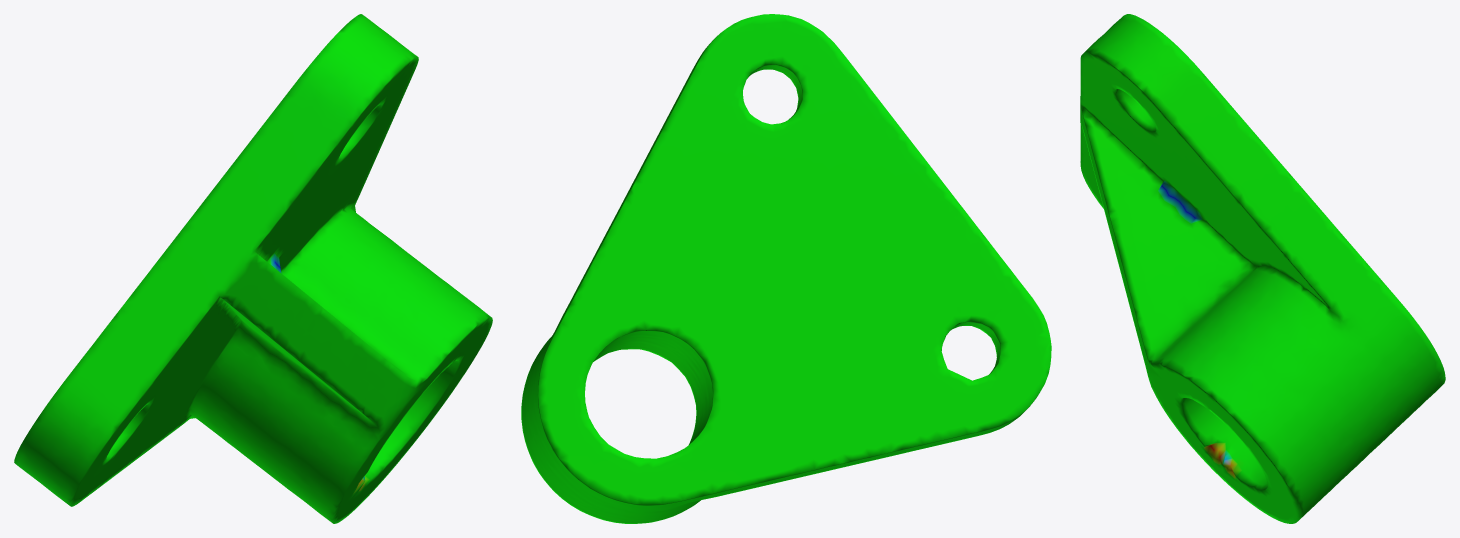
Rendered from all=0.000102-hole=0.008035-initial.obj.
The picture shows the model from 3 angles, left to right: view 1: azimuth 30°, elevation 25°; view 2: azimuth 150°, elevation 25°; view 3: azimuth 270°, elevation 25°; orthographic projection. The views are drawn at different scales.
Size of the model in its own units: 61.65 by 61.62 by 44.13.
